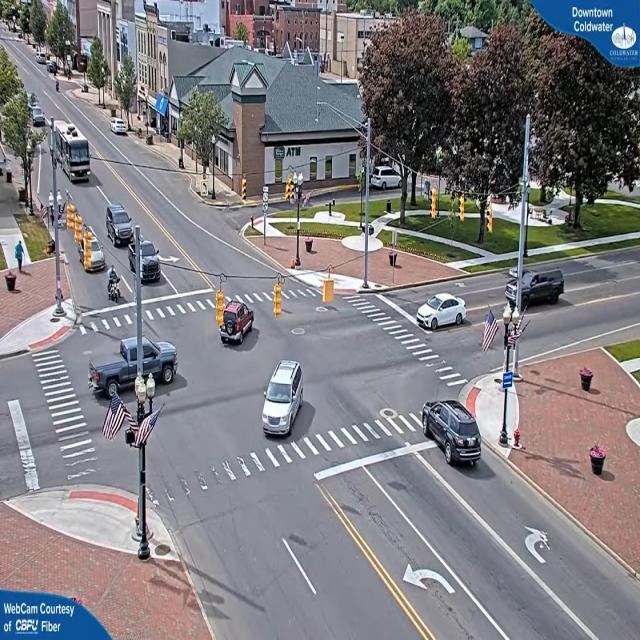car: (86, 339, 180, 388), (423, 400, 482, 466), (262, 360, 307, 436), (413, 293, 467, 331), (220, 298, 256, 344), (527, 266, 565, 308), (107, 206, 137, 246), (78, 230, 105, 272), (138, 240, 162, 283), (111, 119, 129, 136)
truck: (56, 132, 94, 185)
